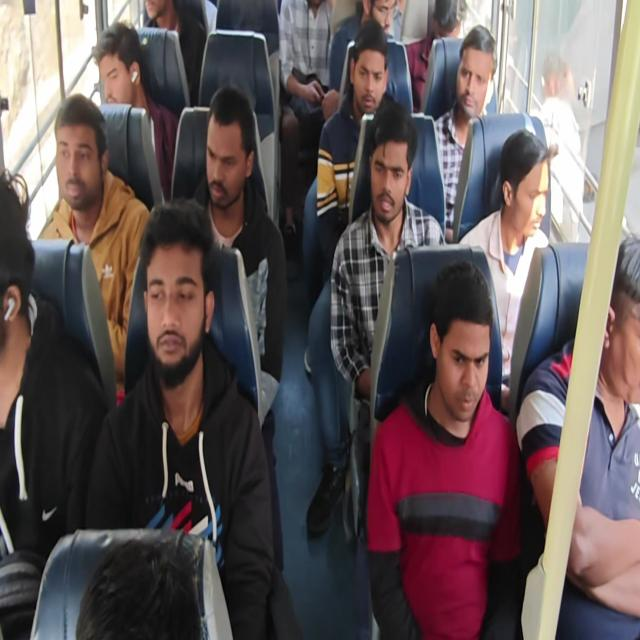person: (1, 1, 638, 638), (82, 196, 299, 638), (306, 100, 445, 536), (366, 259, 522, 638), (0, 168, 108, 638), (516, 232, 640, 637), (191, 84, 288, 572), (36, 93, 150, 398), (458, 127, 558, 411), (315, 19, 397, 272), (278, 1, 339, 260), (92, 21, 179, 202), (433, 24, 498, 241), (75, 533, 204, 639), (534, 51, 584, 242), (405, 0, 466, 113), (329, 0, 398, 98), (142, 0, 206, 105)
